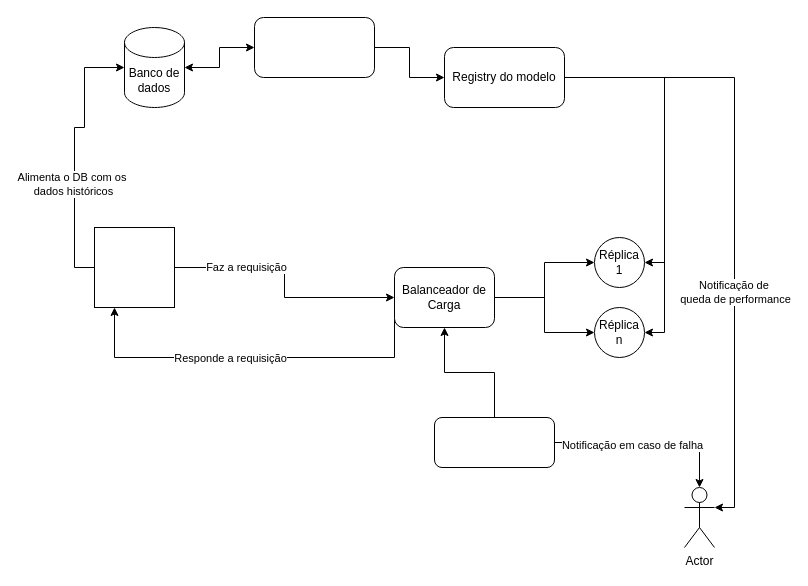
The diagram is 808 pixels wide and 586 high, and some of its shapes have lost their labels. The shapes that lost their labels are listed below. From the top down, each one's centre as x and y in pixels, then its label:
At (x=314, y=47): "Treinamento do modelo".
At (x=134, y=267): "Aplicativo".
At (x=494, y=442): "Agente externo de monitoramento".
